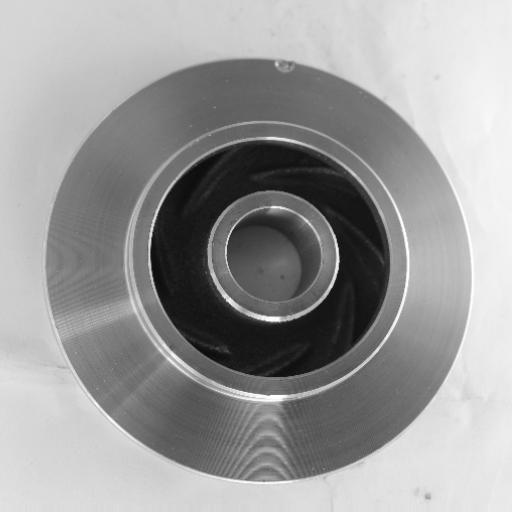crack: (270, 50, 302, 86)
unpolished_casting: (42, 54, 472, 488)
